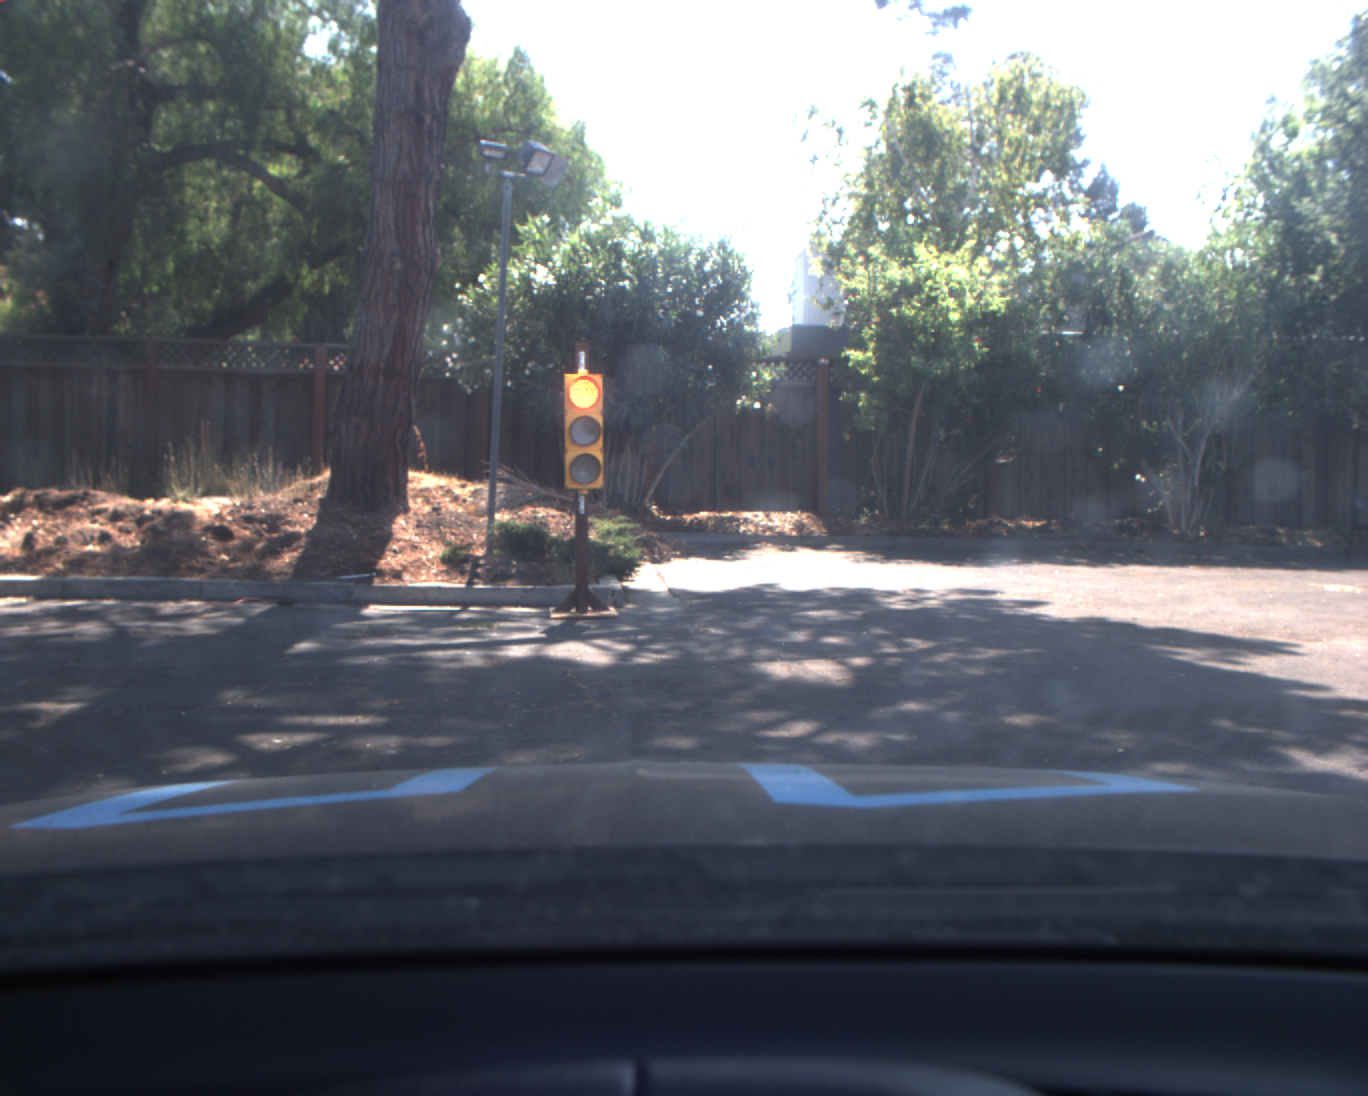red: (560, 368, 607, 494)
